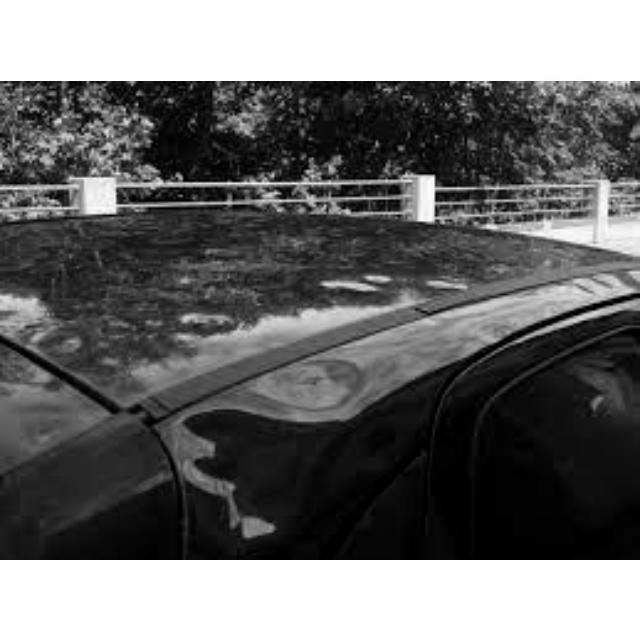roof-dent: (166, 219, 430, 537), (1, 219, 240, 500), (295, 217, 522, 394)
